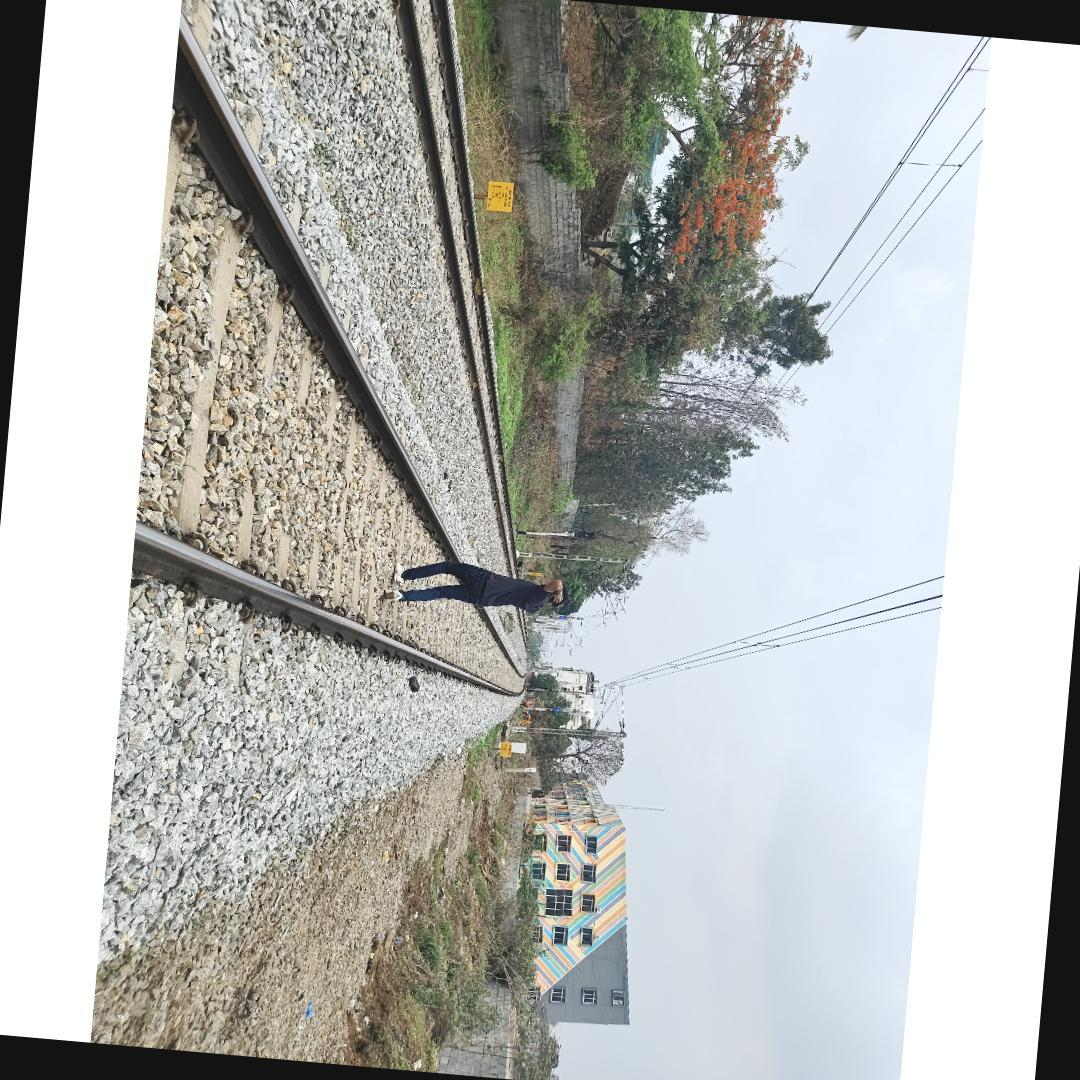standing: (382, 554, 568, 620)
track: (129, 0, 533, 703)
